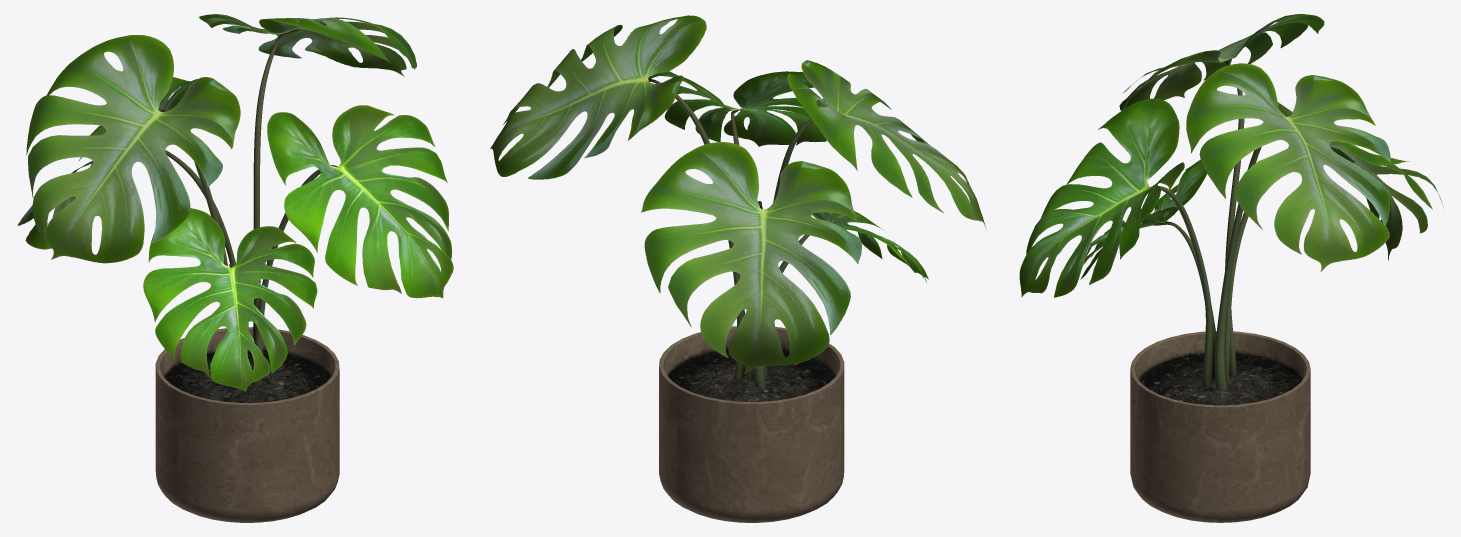
File: monstera_b02.glb
3 views of the same model, side by side, from view 1: azimuth 30°, elevation 25°; view 2: azimuth 150°, elevation 25°; view 3: azimuth 270°, elevation 25° (orthographic). The views are drawn at different scales.
Parts seen in each view (by area): view 1: SM_MZRa_Monstera_B02_MI_MZRa_Monstera_B02a_0, SM_MZRa_Monstera_B02_MI_MZRa_Monstera_B02b_0; view 2: SM_MZRa_Monstera_B02_MI_MZRa_Monstera_B02a_0, SM_MZRa_Monstera_B02_MI_MZRa_Monstera_B02b_0; view 3: SM_MZRa_Monstera_B02_MI_MZRa_Monstera_B02a_0, SM_MZRa_Monstera_B02_MI_MZRa_Monstera_B02b_0.
Part boxes in pixels (x1,y1,x2,y2): SM_MZRa_Monstera_B02_MI_MZRa_Monstera_B02a_0: (17, 14, 453, 391); SM_MZRa_Monstera_B02_MI_MZRa_Monstera_B02b_0: (155, 28, 339, 522); SM_MZRa_Monstera_B02_MI_MZRa_Monstera_B02a_0: (490, 15, 986, 374); SM_MZRa_Monstera_B02_MI_MZRa_Monstera_B02b_0: (648, 79, 844, 522); SM_MZRa_Monstera_B02_MI_MZRa_Monstera_B02a_0: (1019, 14, 1443, 297); SM_MZRa_Monstera_B02_MI_MZRa_Monstera_B02b_0: (1130, 61, 1310, 522).
Bounding box in the file's own units: 1.55 × 1.58 × 1.37.
2 materials, 2 textured.
